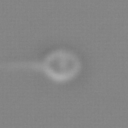normal: (1, 53, 43, 76)
